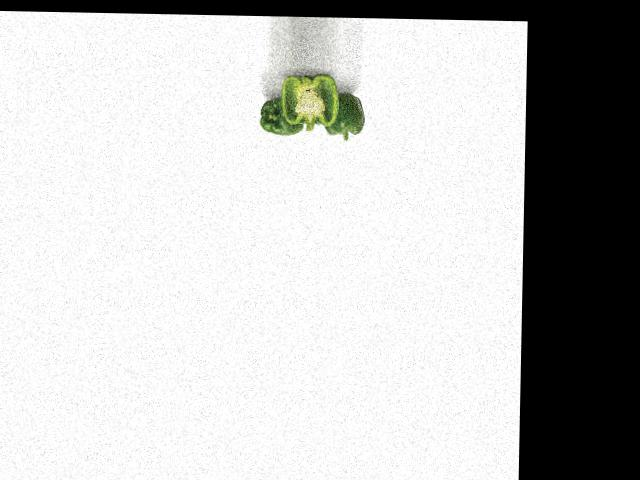bell_pepper: (255, 92, 308, 139)
